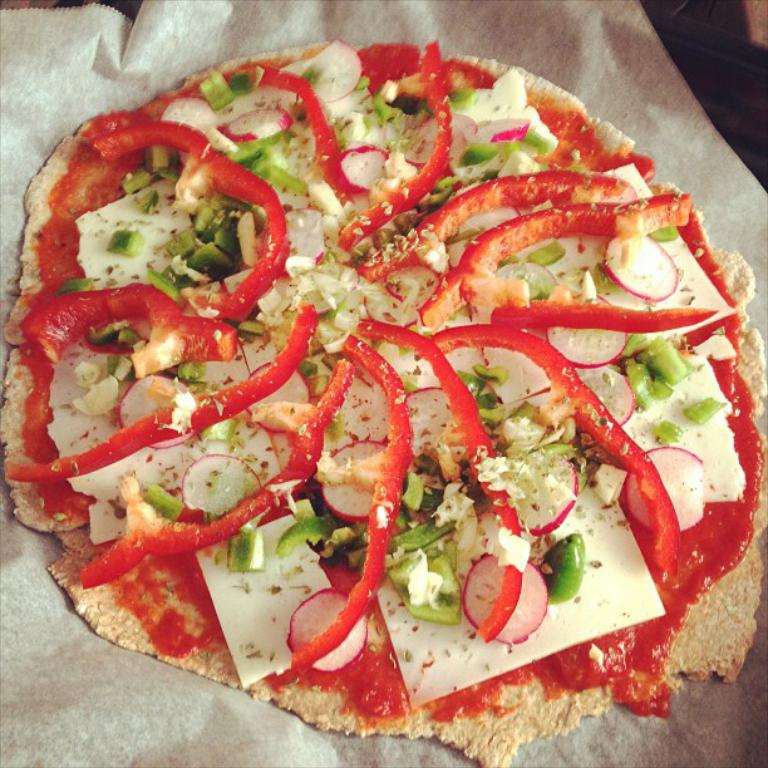Pizza: (20, 51, 739, 729)
